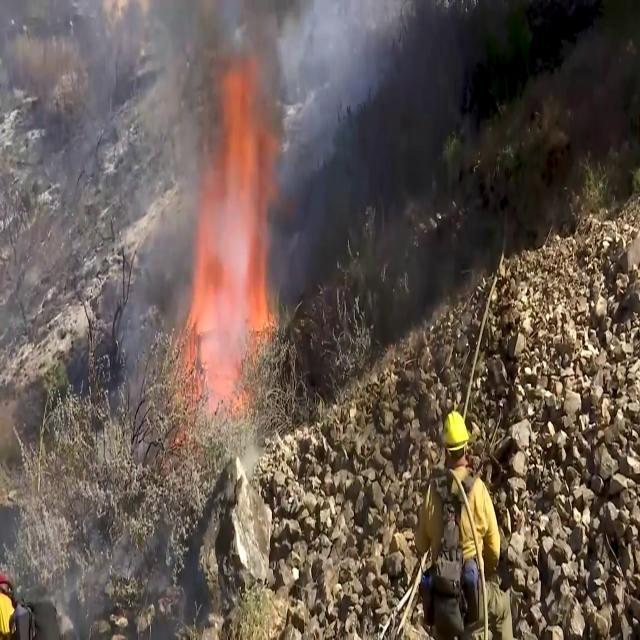Fire: (178, 59, 288, 407)
Smoke: (272, 0, 388, 175)
